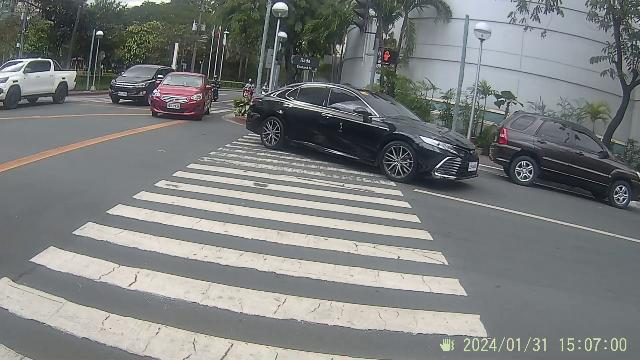car: (247, 82, 479, 182)
lamp_post: (470, 19, 492, 137), (270, 0, 288, 84), (93, 26, 105, 93)
